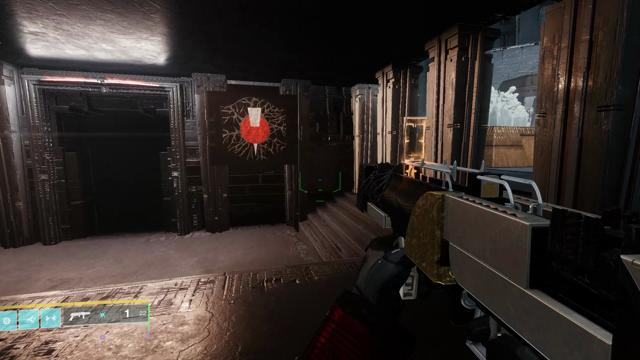kill: (220, 96, 287, 161)
